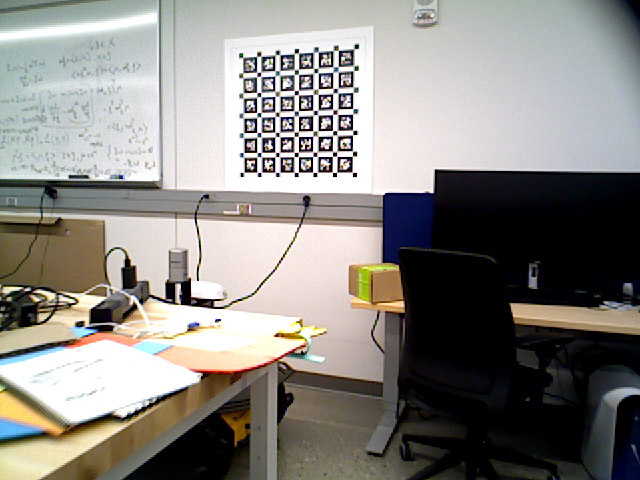painting4: (224, 27, 374, 191)
